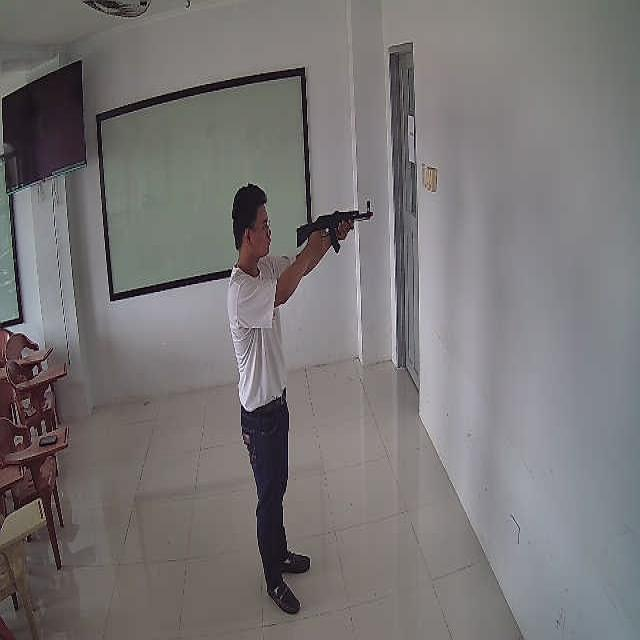rifle: (297, 202, 373, 254)
